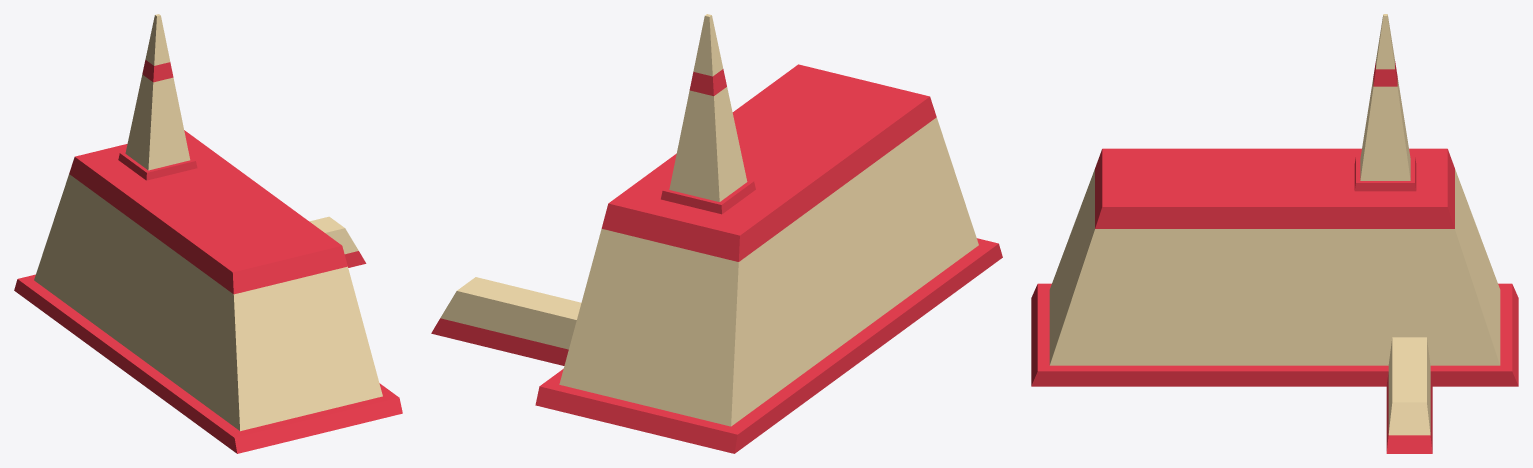
Rendered from House_5.fbx.
3 views of the same model, side by side, from view 1: azimuth 30°, elevation 25°; view 2: azimuth 150°, elevation 25°; view 3: azimuth 270°, elevation 25° (orthographic). The views are drawn at different scales.
Parts seen in each view (by area): view 1: House_5; view 2: House_5; view 3: House_5.
Part boxes in pixels (x1,y1,x2,y2): House_5: (14, 14, 402, 453); House_5: (431, 14, 1002, 453); House_5: (1031, 14, 1518, 453).
Size of the model in its own units: 200 by 196 by 265.
